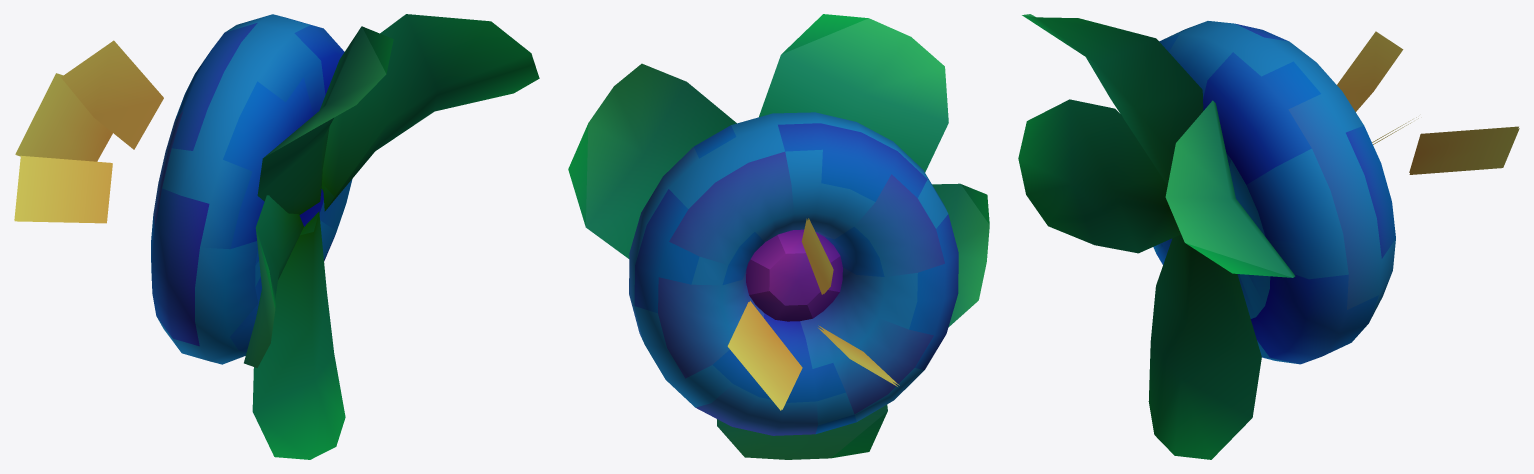
The model's file is flowerBlue.fbx.
The picture shows the model from 3 angles, left to right: view 1: azimuth 30°, elevation 25°; view 2: azimuth 150°, elevation 25°; view 3: azimuth 270°, elevation 25°; orthographic projection. The views are drawn at different scales.
Visible parts, largest first — view 1: flowerBlue; view 2: flowerBlue; view 3: flowerBlue.
Boxes of the visible parts, x1,y1,x2,y2 form: flowerBlue: (14, 14, 539, 459); flowerBlue: (568, 14, 989, 459); flowerBlue: (1018, 14, 1519, 459).
Size of the model in its own units: 86.2 by 84.41 by 86.69.
